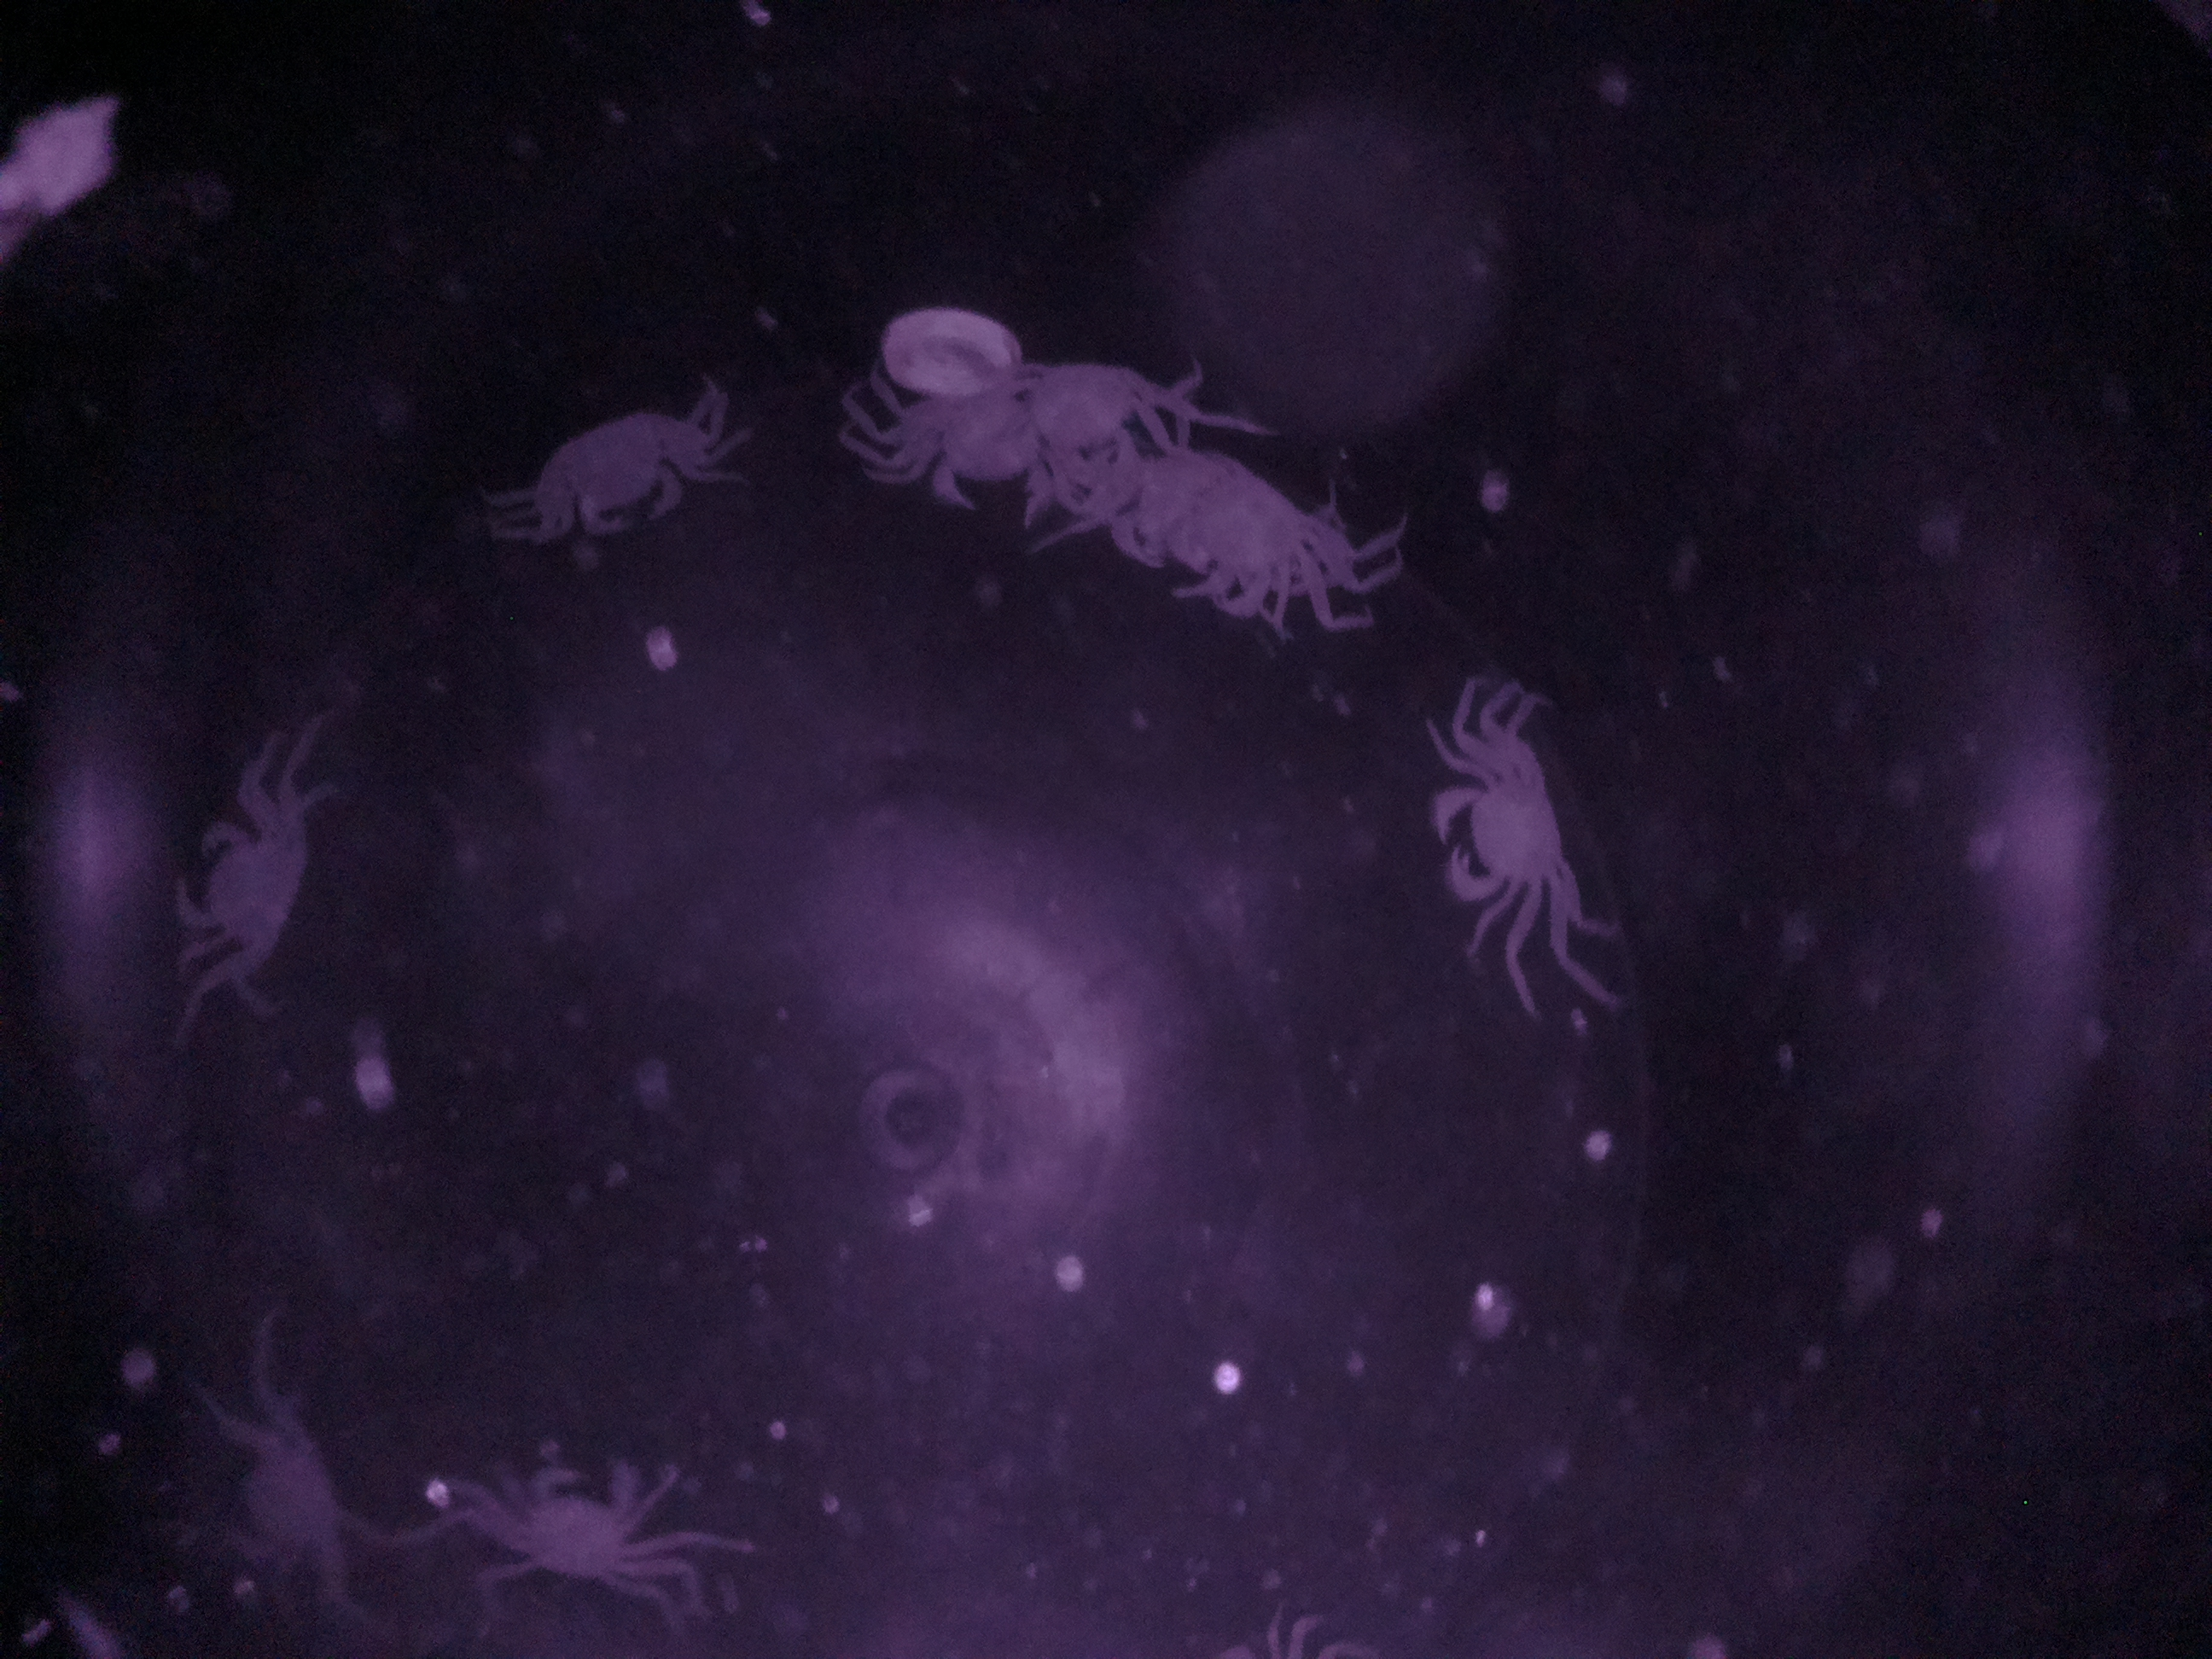Crab: (1402, 702, 1623, 962), (528, 382, 742, 572), (160, 786, 338, 997)
